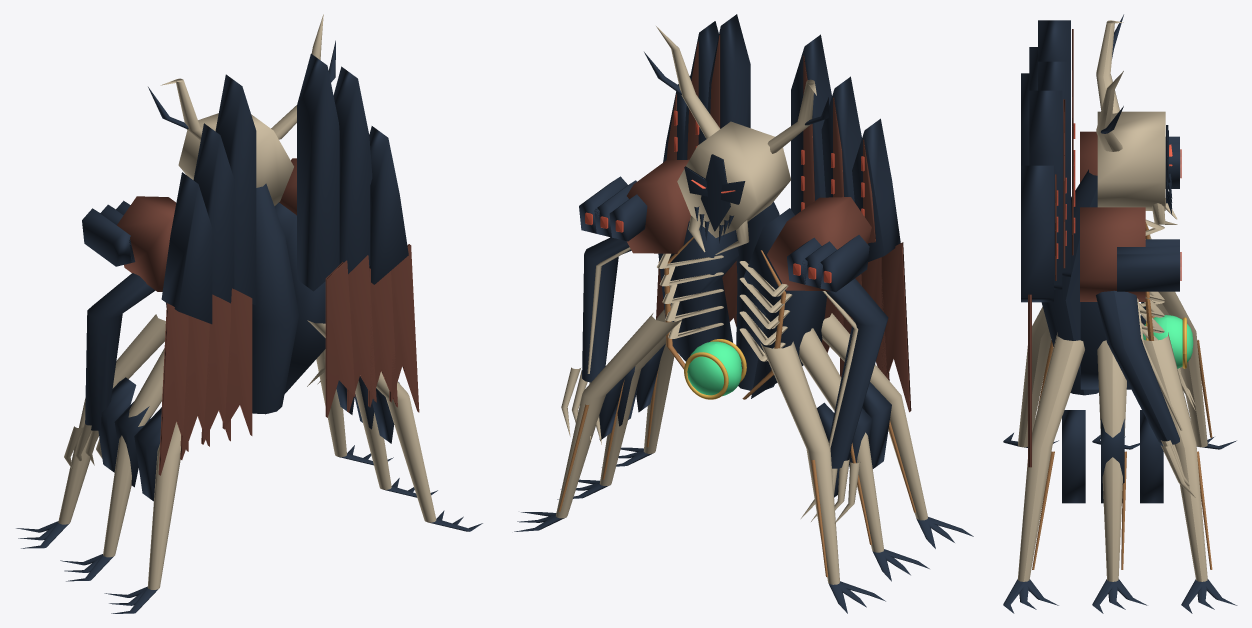
Rendered from boss_8.glb.
The picture shows the model from 3 angles, left to right: view 1: azimuth 30°, elevation 25°; view 2: azimuth 150°, elevation 25°; view 3: azimuth 270°, elevation 25°; orthographic projection.
Visible parts, largest first — view 1: CathedralSpire (×6), ShatteredRobe (×8), ShinBone (×6), BrokenSpine, KneeBlade (×4), ExecutionArm, ShoulderBlade, BreastPlate, SkullMask, CannonShroud, BrokenAntler (×2); view 2: ShinBone (×6), CathedralSpire (×6), BreastPlate (×2), ExecutionArm (×2), ShoulderBlade (×2), SkullMask, CannonShroud (×6), ShatteredRobe (×3), SpireFacet (×5), KneeBlade (×3), BrokenSpine, BrokenAntler (×2) (+5 smaller); view 3: ShinBone (×5), CathedralSpire (×6), SkullMask, ShoulderBlade (×2), KneeBlade (×3), ExecutionArm, BrokenSpine, CannonShroud (×3), BrokenAntler (×2), BreastPlate, ShinEtching (×4), GlassCore (+4 smaller).
Part boxes in pixels (bbox=[...]): CathedralSpire (×6): bbox=[161, 53, 408, 324]; ShatteredRobe (×8): bbox=[158, 244, 419, 475]; ShinBone (×6): bbox=[58, 314, 436, 589]; BrokenSpine: bbox=[252, 183, 299, 414]; KneeBlade (×4): bbox=[98, 377, 399, 501]; ExecutionArm: bbox=[85, 273, 155, 430]; ShoulderBlade: bbox=[117, 196, 176, 291]; BreastPlate: bbox=[274, 202, 325, 393]; SkullMask: bbox=[178, 113, 293, 205]; CannonShroud: bbox=[82, 208, 132, 266]; BrokenAntler (×2): bbox=[160, 14, 323, 140]; ShinBone (×6): bbox=[556, 309, 927, 584]; CathedralSpire (×6): bbox=[663, 14, 900, 261]; BreastPlate (×2): bbox=[658, 208, 826, 398]; ExecutionArm (×2): bbox=[582, 237, 888, 468]; ShoulderBlade (×2): bbox=[627, 159, 871, 291]; SkullMask: bbox=[677, 121, 790, 237]; CannonShroud (×6): bbox=[579, 176, 869, 292]; ShatteredRobe (×3): bbox=[722, 242, 911, 412]; SpireFacet (×5): bbox=[687, 35, 875, 242]; KneeBlade (×3): bbox=[599, 344, 891, 468]; BrokenSpine: bbox=[735, 201, 779, 390]; BrokenAntler (×2): bbox=[656, 26, 816, 153]; ShinBone (×5): bbox=[1018, 291, 1207, 581]; CathedralSpire (×6): bbox=[1021, 20, 1070, 302]; SkullMask: bbox=[1097, 111, 1165, 210]; ShoulderBlade (×2): bbox=[1080, 131, 1145, 301]; KneeBlade (×3): bbox=[1062, 410, 1163, 503]; ExecutionArm: bbox=[1096, 290, 1179, 444]; BrokenSpine: bbox=[1041, 169, 1098, 395]; CannonShroud (×3): bbox=[1117, 151, 1179, 291]; BrokenAntler (×2): bbox=[1096, 20, 1123, 151]; BreastPlate: bbox=[1080, 302, 1131, 389]; ShinEtching (×4): bbox=[1032, 340, 1212, 569]; GlassCore: bbox=[1143, 315, 1193, 368].
Bounding box in the file's own units: 2.37 × 3 × 1.3.
